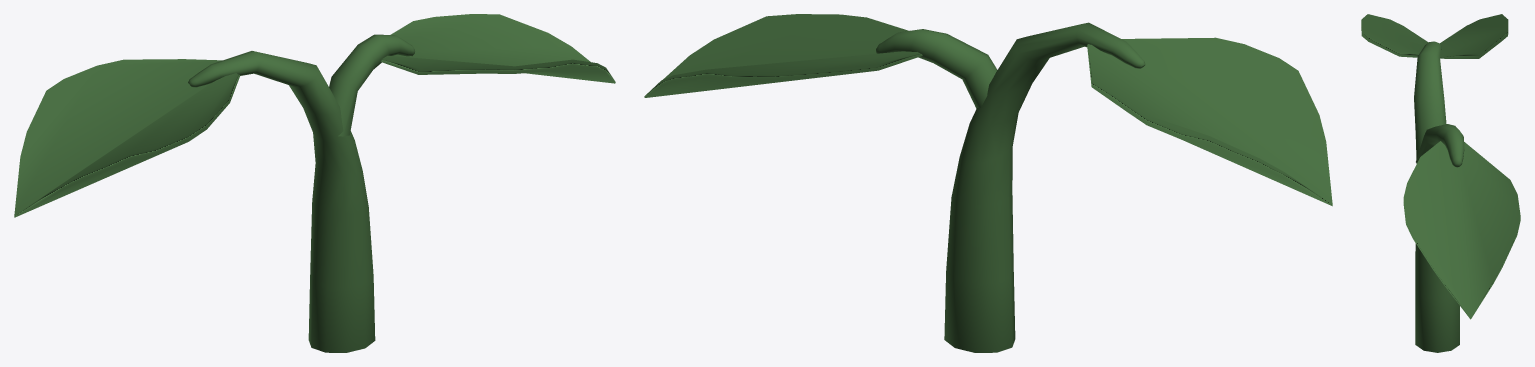
The model's file is Sprout.fbx.
3 renders of one model, left to right at view 1: azimuth 30°, elevation 25°; view 2: azimuth 150°, elevation 25°; view 3: azimuth 270°, elevation 25°, orthographic. The views are drawn at different scales.
Visible parts, largest first — view 1: LeafSprout, Sprout, LeafSprout1, Sprout1; view 2: LeafSprout, Sprout, LeafSprout1, Sprout1; view 3: LeafSprout1, Sprout, LeafSprout, Sprout1.
Part boxes in pixels (x1,y1,x2,y2): LeafSprout: (14, 59, 240, 217); Sprout: (188, 51, 375, 352); LeafSprout1: (381, 14, 615, 83); Sprout1: (329, 34, 414, 136); LeafSprout: (1087, 37, 1332, 206); Sprout: (944, 22, 1145, 352); LeafSprout1: (644, 14, 922, 97); Sprout1: (876, 29, 997, 108); LeafSprout1: (1403, 141, 1520, 319); Sprout: (1414, 41, 1459, 352); LeafSprout: (1361, 14, 1508, 58); Sprout1: (1416, 124, 1464, 167).
Bounding box in the file's own units: 14.98 × 7.22 × 4.13.
